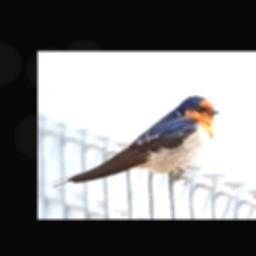Swallow: (51, 95, 219, 187)
